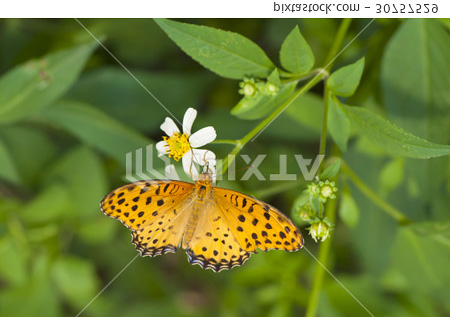Argyreus hyperbius: (97, 135, 307, 274)
butterfly: (95, 133, 305, 272)
